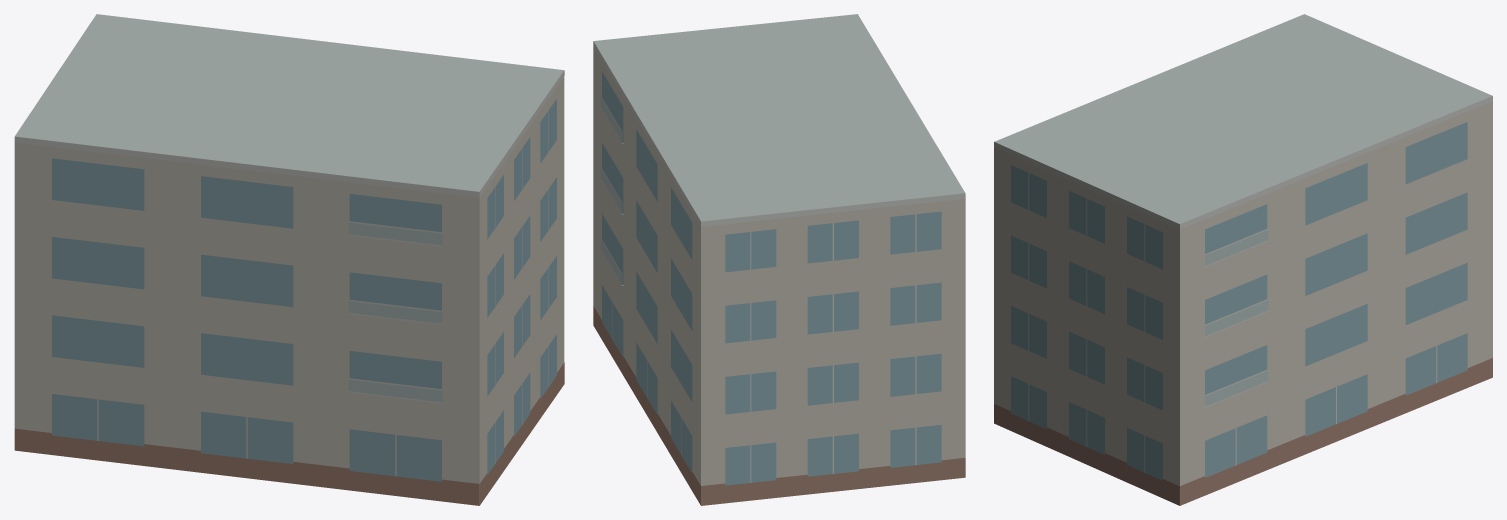
File: survey-upis-32816169.glb
3 views of the same model, side by side, from view 1: azimuth 30°, elevation 25°; view 2: azimuth 150°, elevation 25°; view 3: azimuth 270°, elevation 25° (orthographic). The views are drawn at different scales.
Visible parts, largest first — view 1: survey-upis-32816169.tmp; view 2: survey-upis-32816169.tmp; view 3: survey-upis-32816169.tmp.
Boxes of the visible parts, x1,y1,x2,y2 form: survey-upis-32816169.tmp: (14,14,564,505); survey-upis-32816169.tmp: (593,14,965,505); survey-upis-32816169.tmp: (994,14,1492,505).
Bounding box in the file's own units: 20.5 × 12.8 × 20.55.
